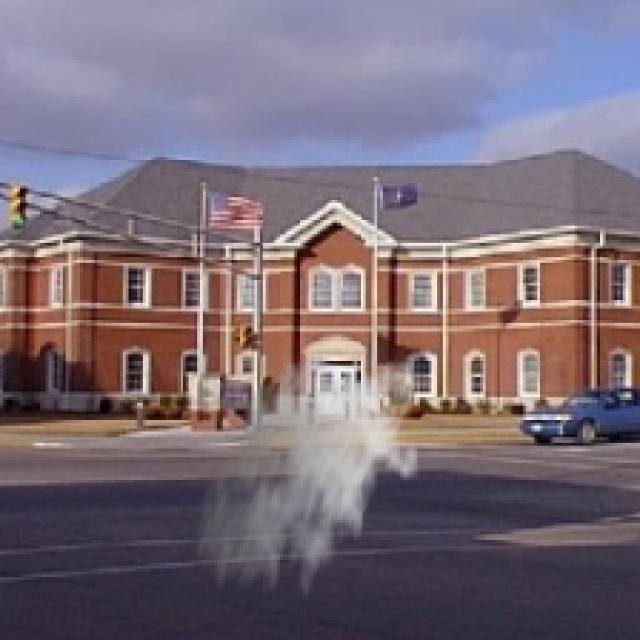Smoke: (194, 343, 420, 611)
